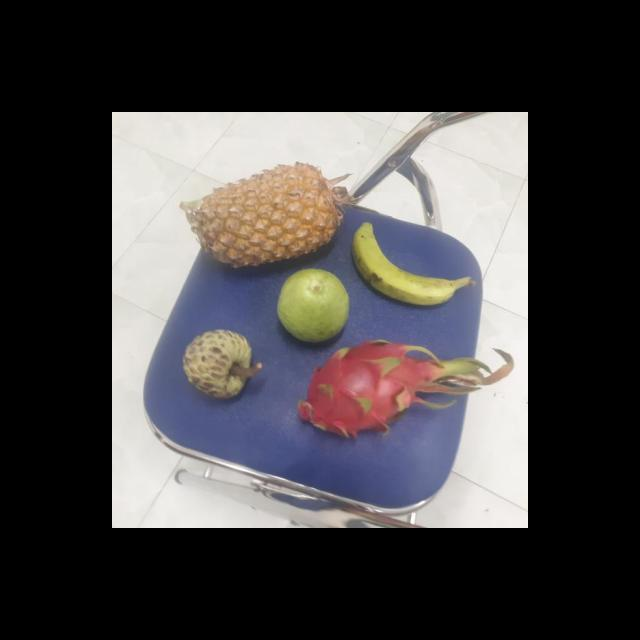Sakya fruit: (178, 331, 254, 399)
banana: (346, 223, 455, 310)
guava: (272, 268, 350, 342)
pineapple: (192, 165, 338, 272)
pitaya: (293, 341, 437, 434)
